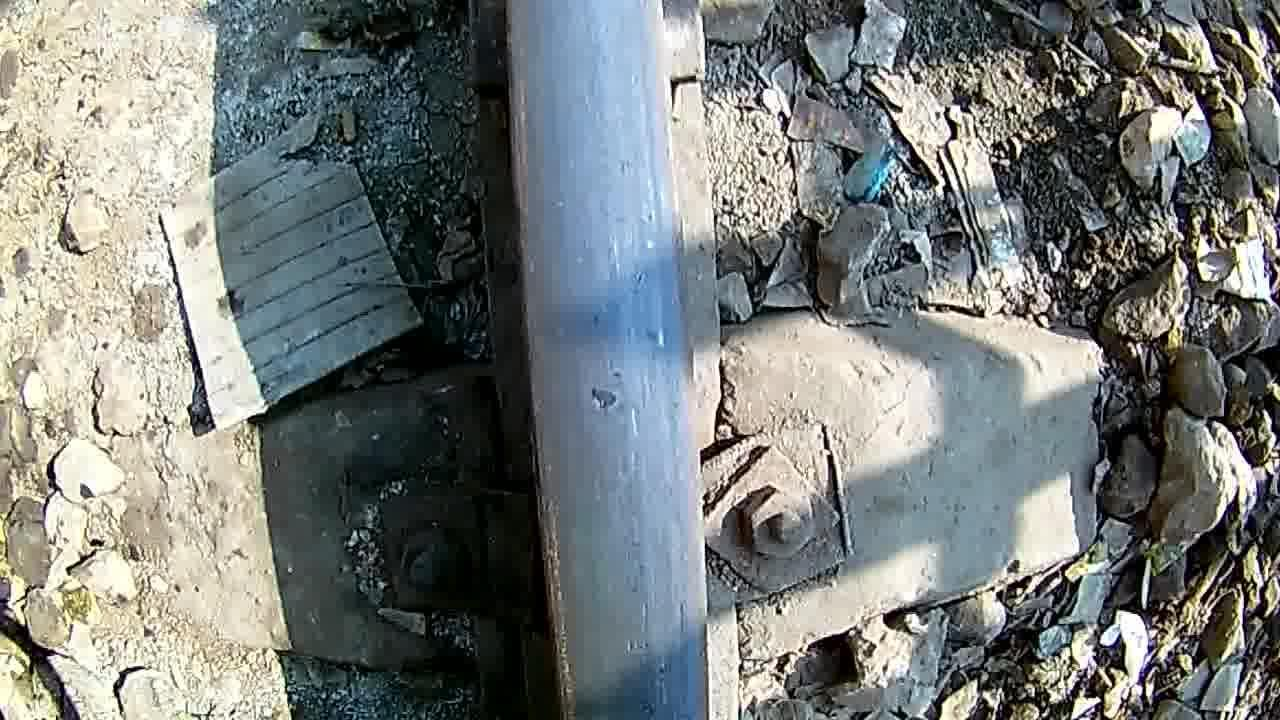crack: (546, 241, 696, 473)
